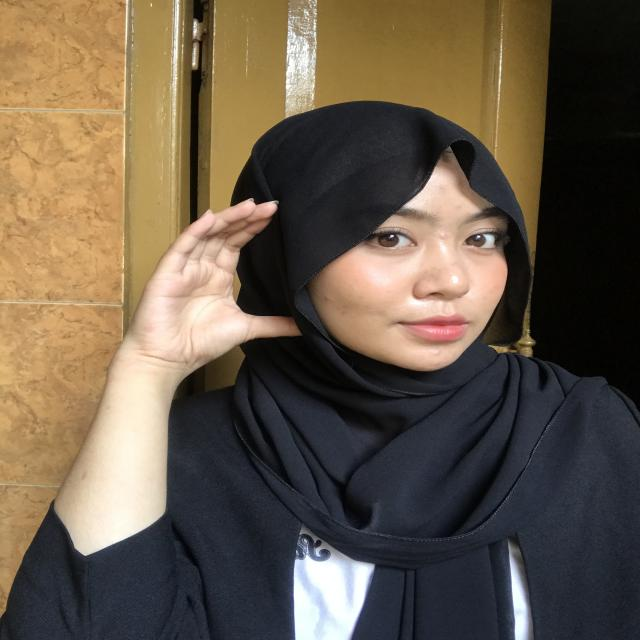mendengar: (127, 191, 303, 383)
